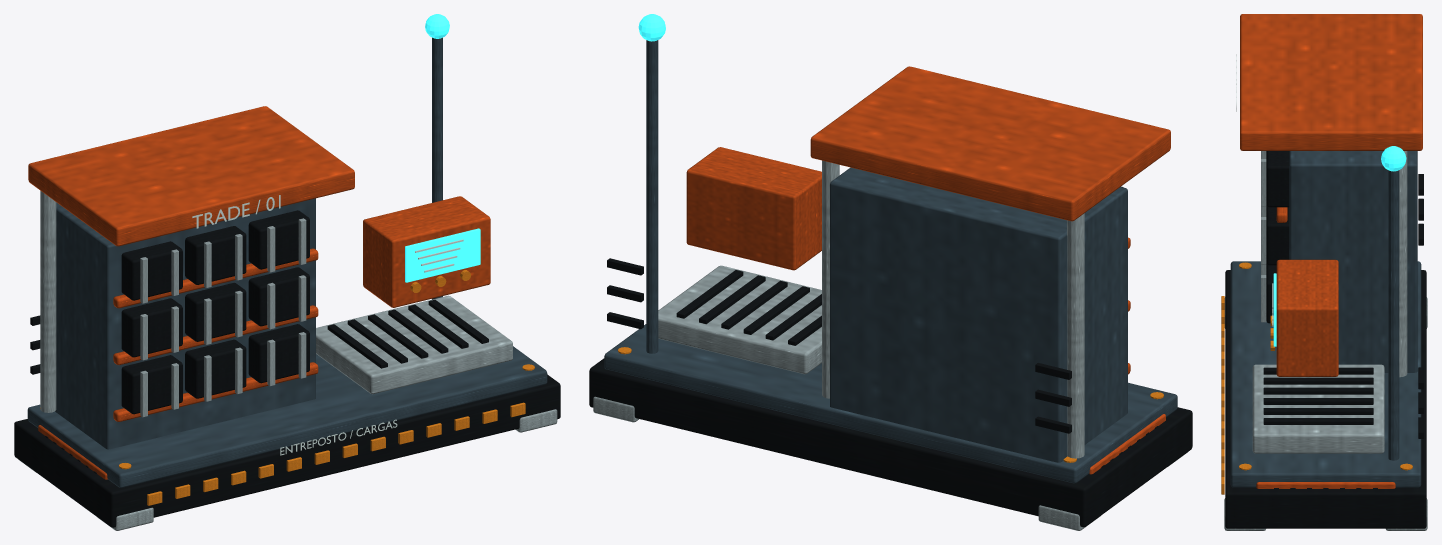
The model's file is entreposto-comercial.glb.
3 views of the same model, side by side, from view 1: azimuth 30°, elevation 25°; view 2: azimuth 150°, elevation 25°; view 3: azimuth 270°, elevation 25° (orthographic). The views are drawn at different scales.
Parts seen in each view (by area): view 1: Chassi reforçado.001, Deck aparafusado.001, Painel de inspeção lateral.002, Sapata de nivelamento.004, Parafuso de ancoragem.004, Tela de diagnóstico.001, ENTREPOSTO / CARGAS.001; view 2: Deck aparafusado.001, Painel de inspeção lateral.002, Chassi reforçado.001, Sapata de nivelamento.004; view 3: Deck aparafusado.001, Painel de inspeção lateral.002, Chassi reforçado.001, Sapata de nivelamento.004, Parafuso de ancoragem.004, Tela de diagnóstico.001.
Boxes of the visible parts, x1,y1,x2,y2 form: Chassi reforçado.001: (14,210,560,527); Deck aparafusado.001: (27,37,547,487); Painel de inspeção lateral.002: (28,106,490,479); Sapata de nivelamento.004: (18,191,557,530); Parafuso de ancoragem.004: (40,270,534,505); Tela de diagnóstico.001: (405,14,480,282); ENTREPOSTO / CARGAS.001: (192,195,463,455); Deck aparafusado.001: (604,40,1177,483); Painel de inspeção lateral.002: (686,66,1170,474); Chassi reforçado.001: (589,186,1192,527); Sapata de nivelamento.004: (593,160,1187,530); Deck aparafusado.001: (1230,151,1421,487); Painel de inspeção lateral.002: (1240,14,1422,488); Chassi reforçado.001: (1225,151,1426,528); Sapata de nivelamento.004: (1224,151,1427,530); Parafuso de ancoragem.004: (1221,262,1412,494); Tela de diagnóstico.001: (1273,146,1406,346).
Bounding box in the file's own units: 2.9 × 2.21 × 1.13.
Materials: 7 (5 with a texture image).
